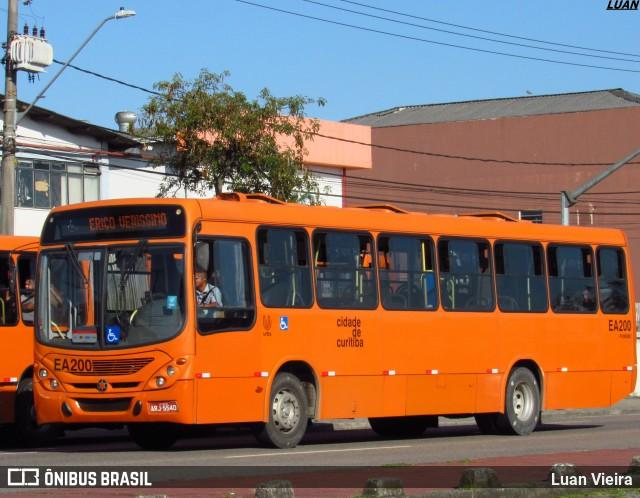ERICO VERISSIMO: (87, 211, 171, 235)
